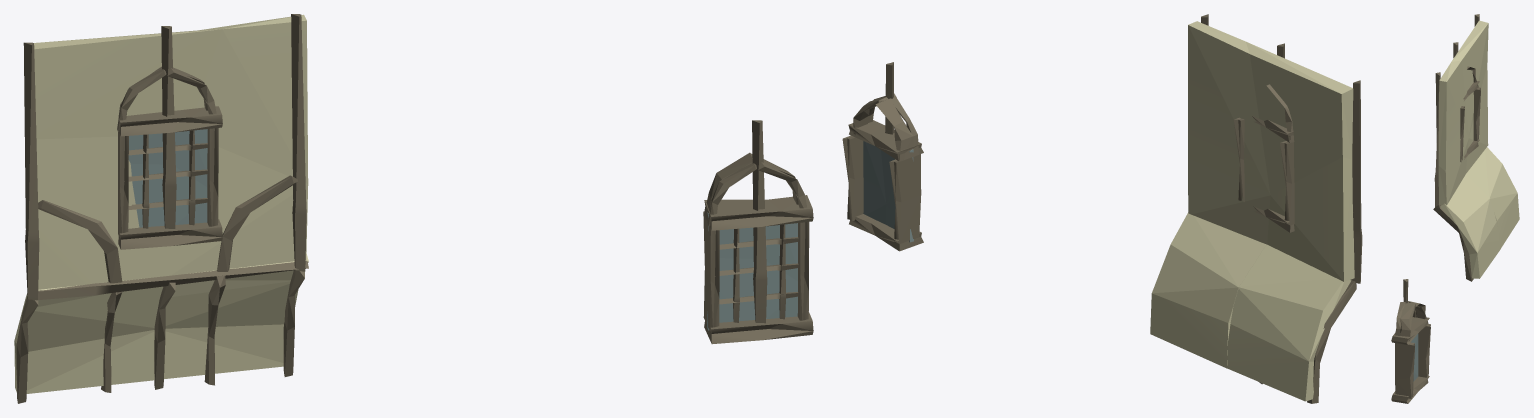
Rendered from MillSlopeWall.fbx.
3 renders of one model, left to right at view 1: azimuth 30°, elevation 25°; view 2: azimuth 150°, elevation 25°; view 3: azimuth 270°, elevation 25°, orthographic. The views are drawn at different scales.
Visible parts, largest first — view 1: MillSlopeWall_Merged; view 2: MillSlopeWall_Merged; view 3: MillSlopeWall_Merged.
Boxes of the visible parts, x1,y1,x2,y2 form: MillSlopeWall_Merged: (14, 14, 813, 403); MillSlopeWall_Merged: (842, 14, 1362, 403); MillSlopeWall_Merged: (1391, 14, 1519, 403).
Size of the model in its own units: 1579 by 854 by 472.
